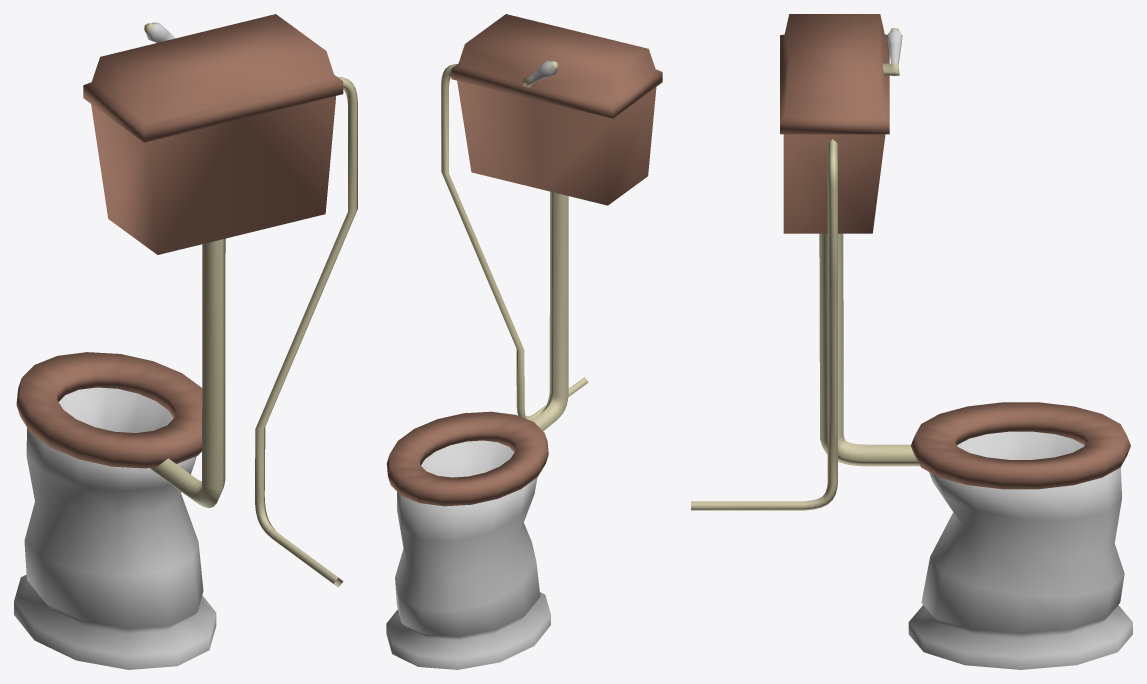
The model's file is Crapper.fbx.
The picture shows the model from 3 angles, left to right: view 1: azimuth 30°, elevation 25°; view 2: azimuth 150°, elevation 25°; view 3: azimuth 270°, elevation 25°; orthographic projection. The views are drawn at different scales.
Visible parts, largest first — view 1: Crapper_LOD0; view 2: Crapper_LOD0; view 3: Crapper_LOD0.
Boxes of the visible parts, box(x1,y1,x2,y2) form: Crapper_LOD0: box(14, 14, 357, 669); Crapper_LOD0: box(386, 14, 662, 669); Crapper_LOD0: box(691, 14, 1132, 669).
Size of what is drawn, in the model's own units: 165 by 426 by 289.
